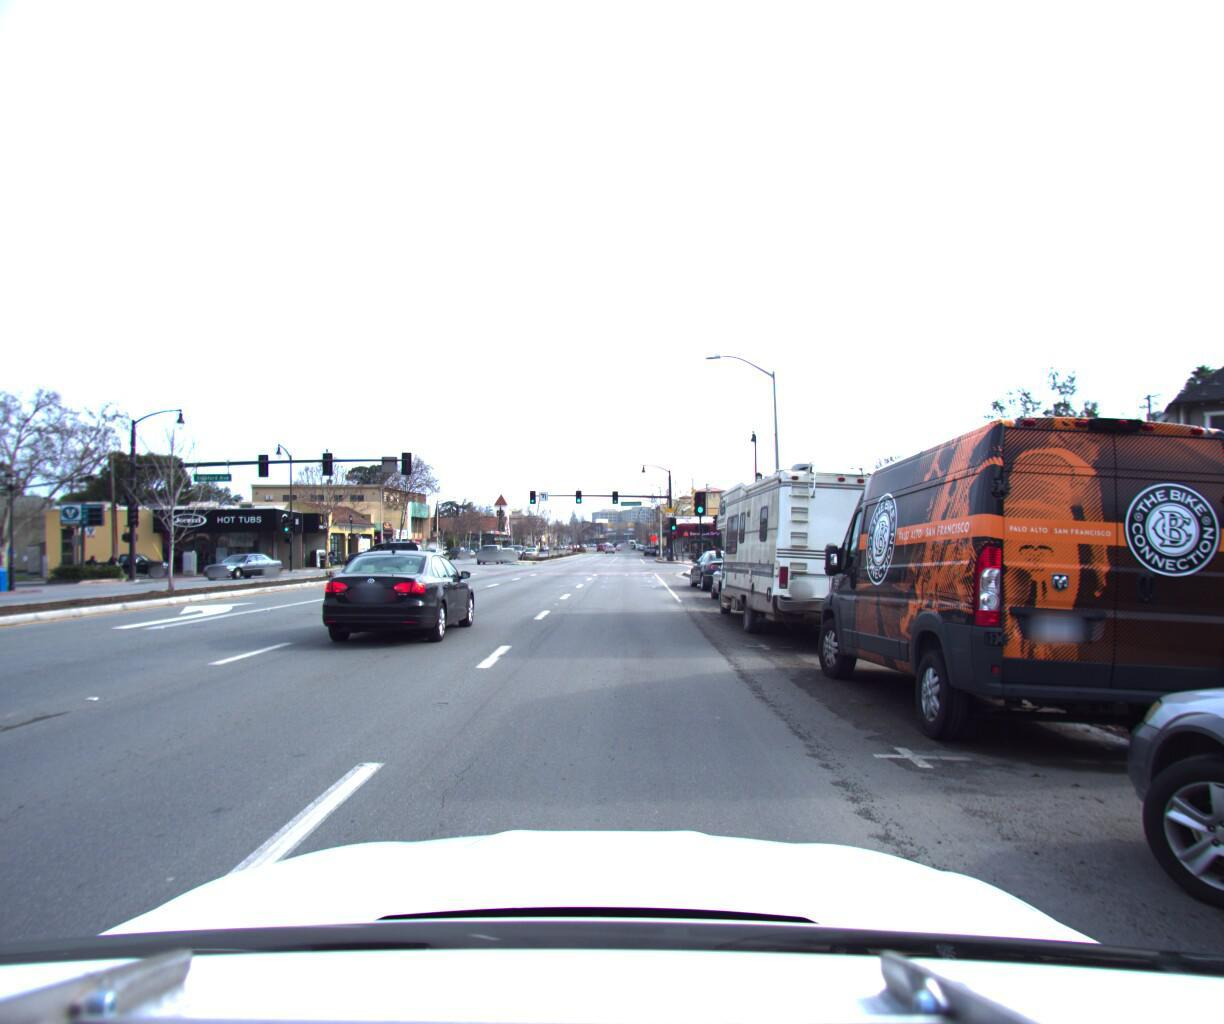bicycle: (98, 545, 140, 573)
car: (802, 396, 1224, 778), (313, 540, 482, 646), (703, 543, 795, 607), (684, 539, 755, 587), (342, 533, 427, 564), (84, 546, 178, 573), (200, 546, 288, 574), (474, 534, 505, 556)
other_vehicle: (708, 434, 955, 663)
